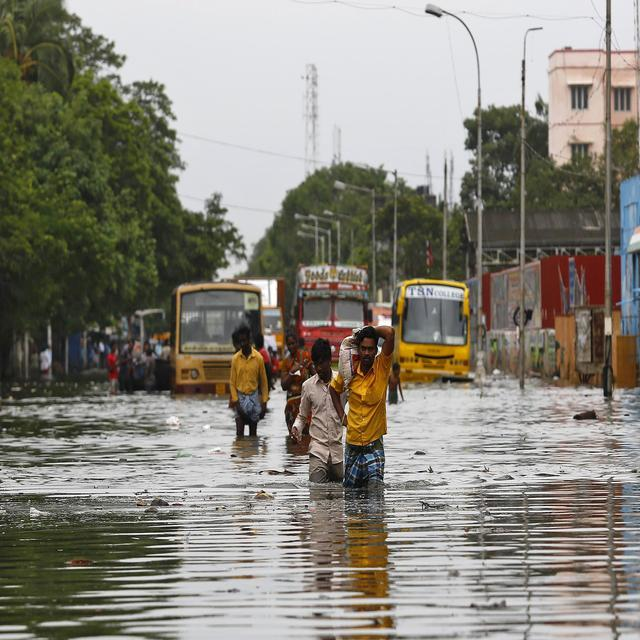Car-RiskLevel2: (166, 266, 263, 404), (398, 263, 485, 385)
Person-RiskLevel2: (333, 313, 408, 497), (285, 338, 352, 489), (226, 321, 271, 442)
